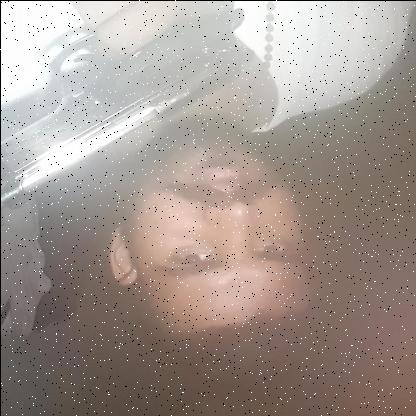rifle: (0, 0, 258, 211)
